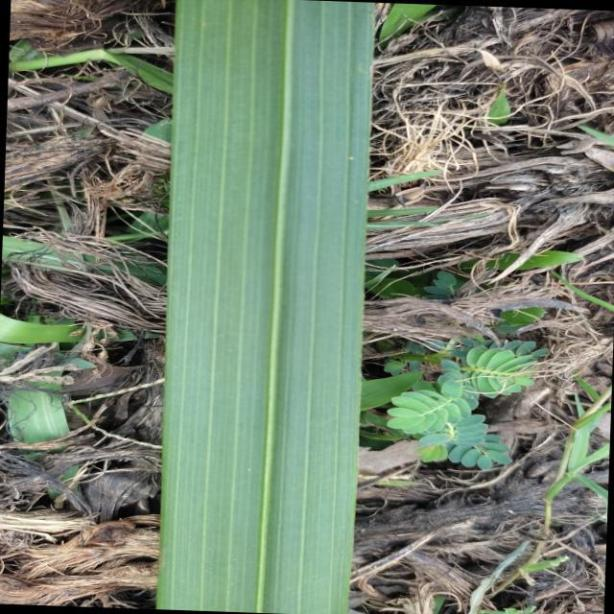Healthy: (157, 0, 374, 614)
